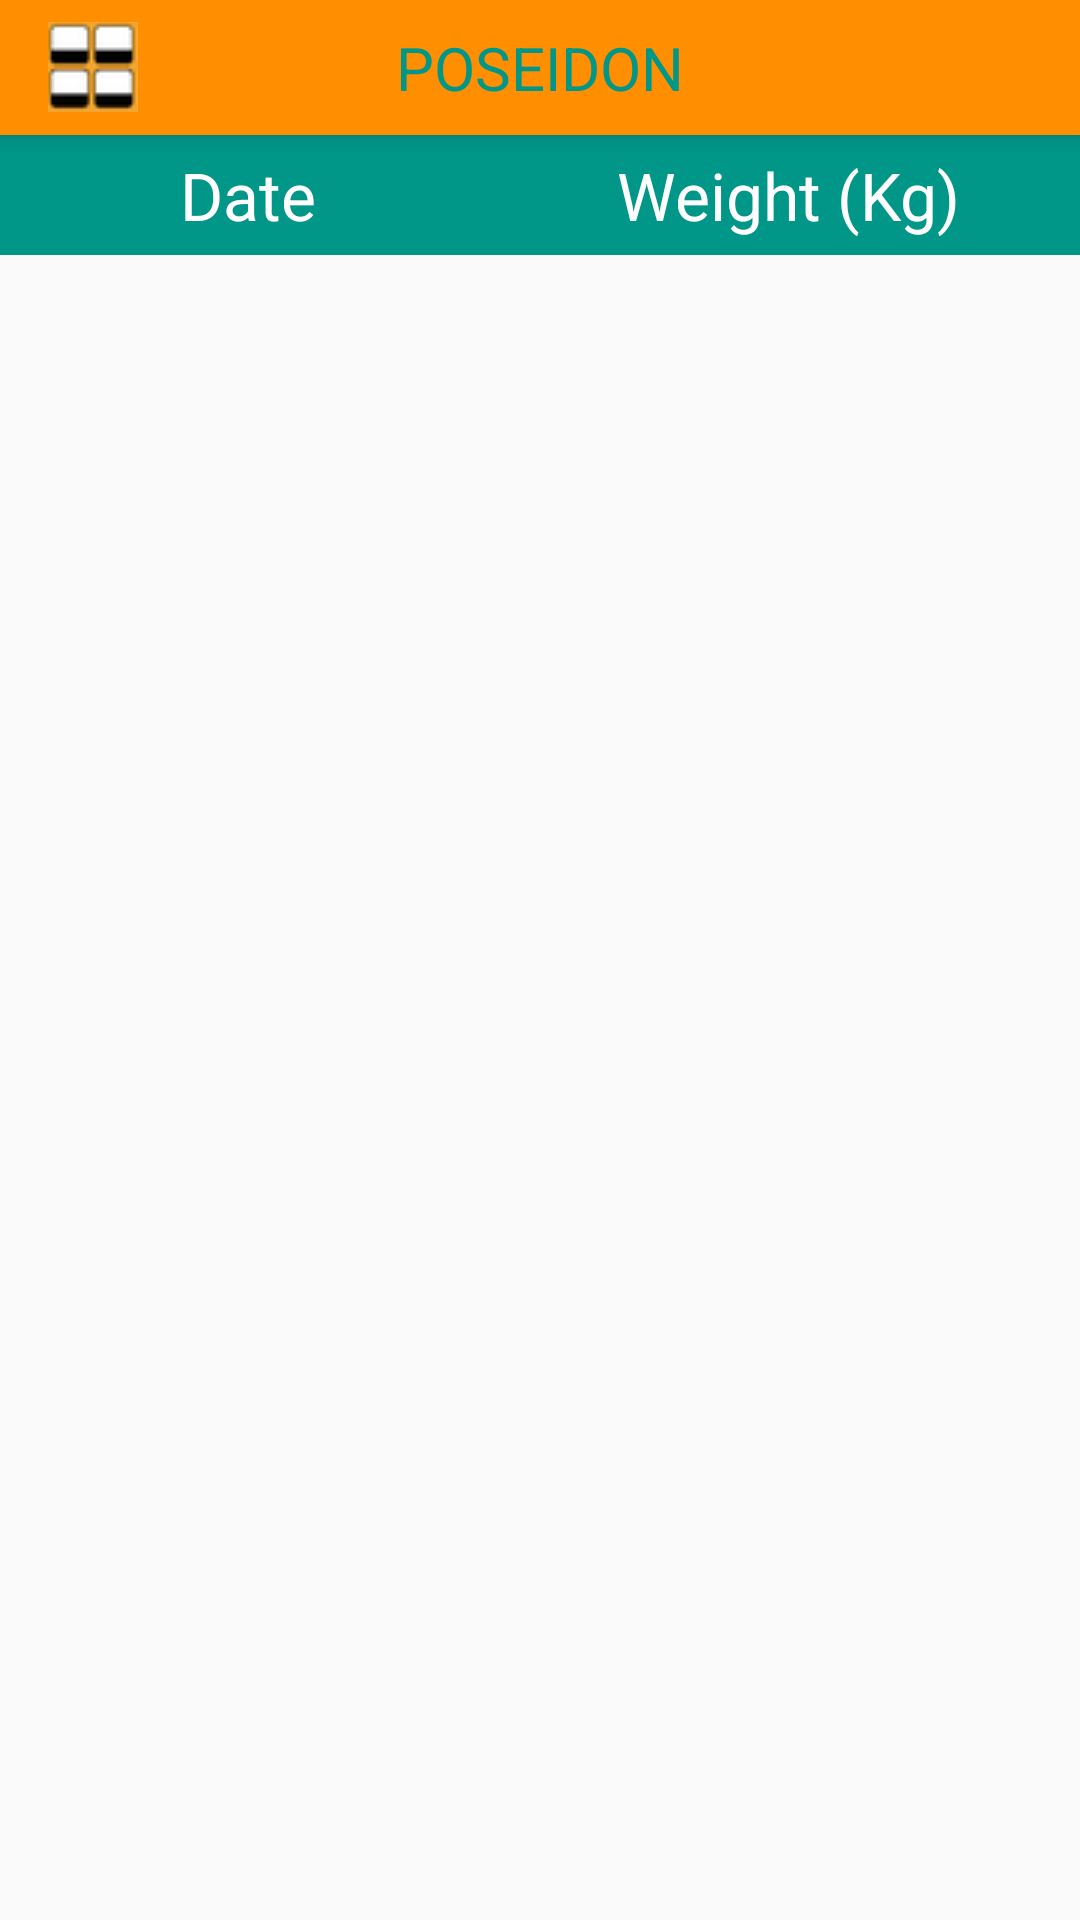

Icon click points for this 1080×1920 phone screenshot, format point (x, y):
homebutton: point (93, 67)
